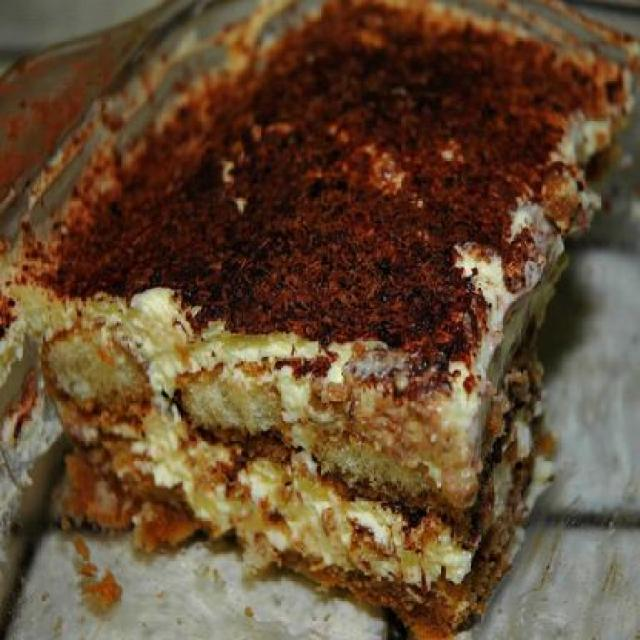Tiramisu: (37, 29, 570, 612)
